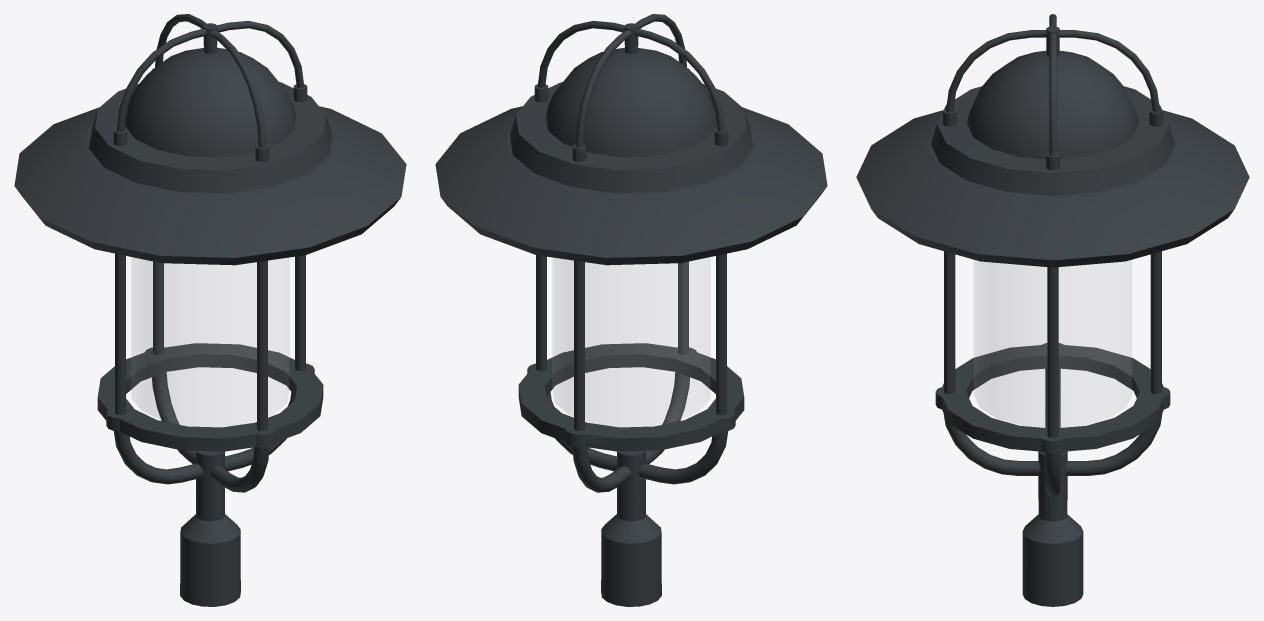
The model's file is Fiete_I.glb.
3 renders of one model, left to right at view 1: azimuth 30°, elevation 25°; view 2: azimuth 150°, elevation 25°; view 3: azimuth 270°, elevation 25°, orthographic.
Parts seen in each view (by area): view 1: BezierCurve.002, Glas, Cylinder.001, BezierCurve.005, BezierCurve.003; view 2: BezierCurve.002, Glas, Cylinder.001, BezierCurve.005, BezierCurve.003; view 3: BezierCurve.002, Glas, Cylinder.001, BezierCurve.005, BezierCurve.003.
Boxes of the visible parts, left/top/right/bottom form: BezierCurve.002: left=14, top=23, right=406, bottom=606; Glas: left=132, top=257, right=288, bottom=426; Cylinder.001: left=113, top=68, right=307, bottom=430; BezierCurve.005: left=113, top=372, right=295, bottom=492; BezierCurve.003: left=116, top=14, right=304, bottom=147; BezierCurve.002: left=435, top=23, right=827, bottom=606; Glas: left=553, top=257, right=709, bottom=426; Cylinder.001: left=534, top=68, right=728, bottom=430; BezierCurve.005: left=546, top=372, right=728, bottom=492; BezierCurve.003: left=537, top=14, right=725, bottom=147; BezierCurve.002: left=856, top=26, right=1249, bottom=606; Glas: left=974, top=260, right=1131, bottom=427; Cylinder.001: left=942, top=108, right=1163, bottom=437; BezierCurve.005: left=943, top=368, right=1162, bottom=496; BezierCurve.003: left=946, top=14, right=1159, bottom=156.
Bounding box in the file's own units: 0.5706 × 0.9043 × 0.5706.
Materials: 5 (4 with a texture image).
